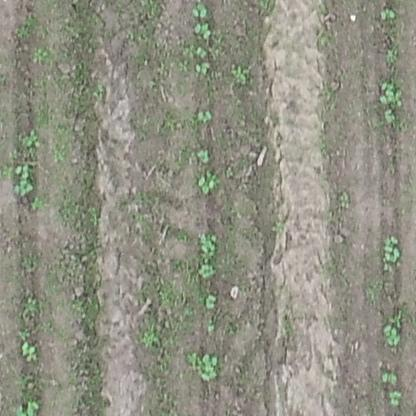vc: (376, 78, 405, 105), (199, 353, 221, 382), (382, 234, 402, 264), (382, 320, 404, 347), (193, 173, 215, 194), (21, 341, 39, 362), (194, 22, 213, 39), (379, 6, 398, 22), (15, 180, 33, 196), (190, 2, 208, 18), (388, 390, 404, 408), (198, 262, 215, 278), (14, 163, 32, 178), (204, 292, 219, 310), (381, 368, 398, 383), (196, 147, 211, 163), (195, 108, 212, 122), (195, 61, 211, 74), (385, 108, 397, 124), (195, 46, 208, 59)
